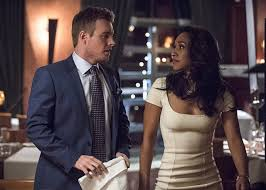Caution: (27, 6, 249, 190)
